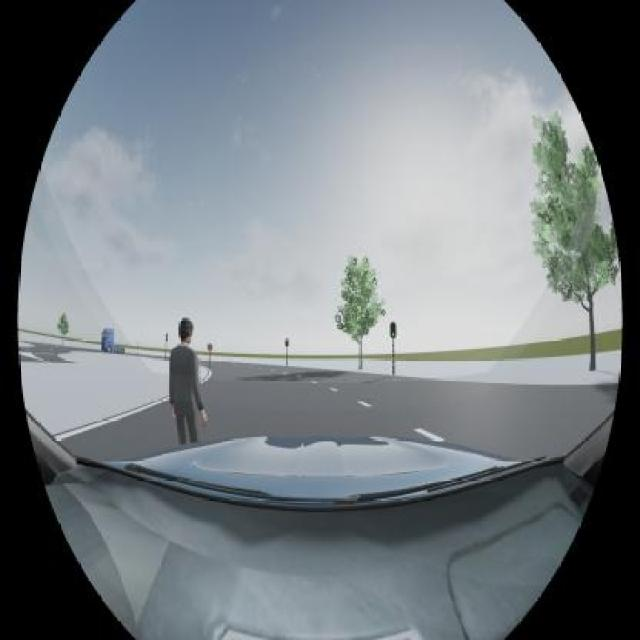forb_speed_over_70: (208, 343, 212, 351)
